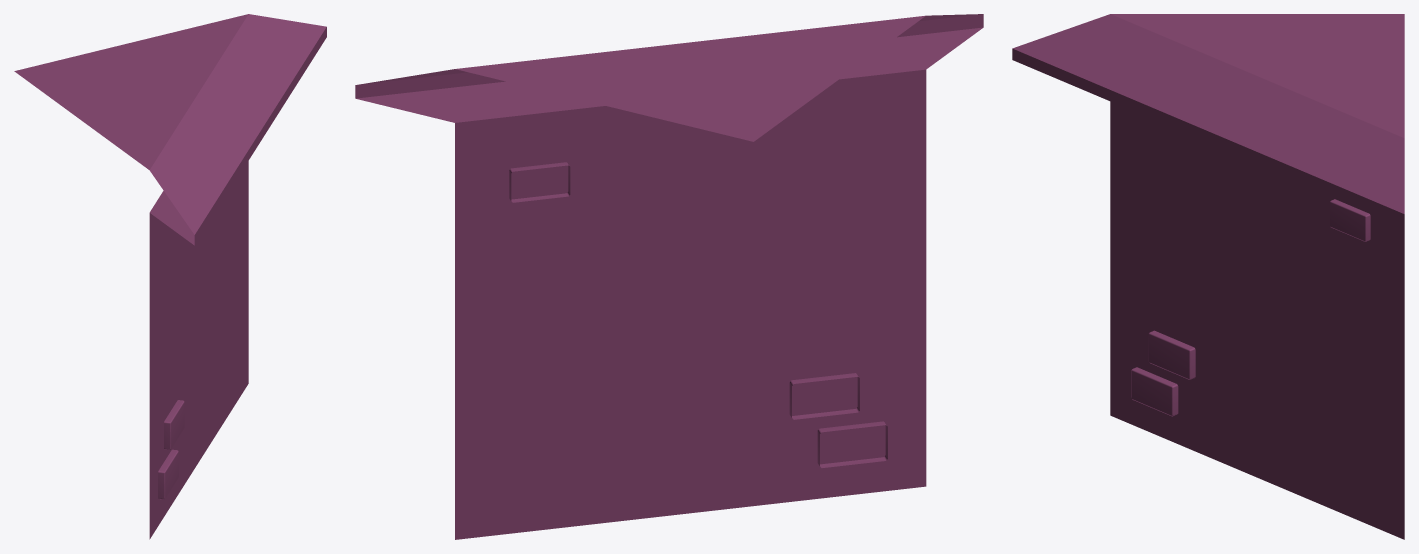
The model's file is Roof_45_Corner_3.fbx.
3 renders of one model, left to right at view 1: azimuth 30°, elevation 25°; view 2: azimuth 150°, elevation 25°; view 3: azimuth 270°, elevation 25°, orthographic. The views are drawn at different scales.
Parts seen in each view (by area): view 1: Roof_45_Corner_3; view 2: Roof_45_Corner_3; view 3: Roof_45_Corner_3.
Boxes of the visible parts, box(x1,y1,x2,y2) form: Roof_45_Corner_3: box(14, 14, 326, 539); Roof_45_Corner_3: box(355, 14, 983, 539); Roof_45_Corner_3: box(1012, 14, 1404, 539).
Bounding box in the file's own units: 4 × 4.52 × 4.
